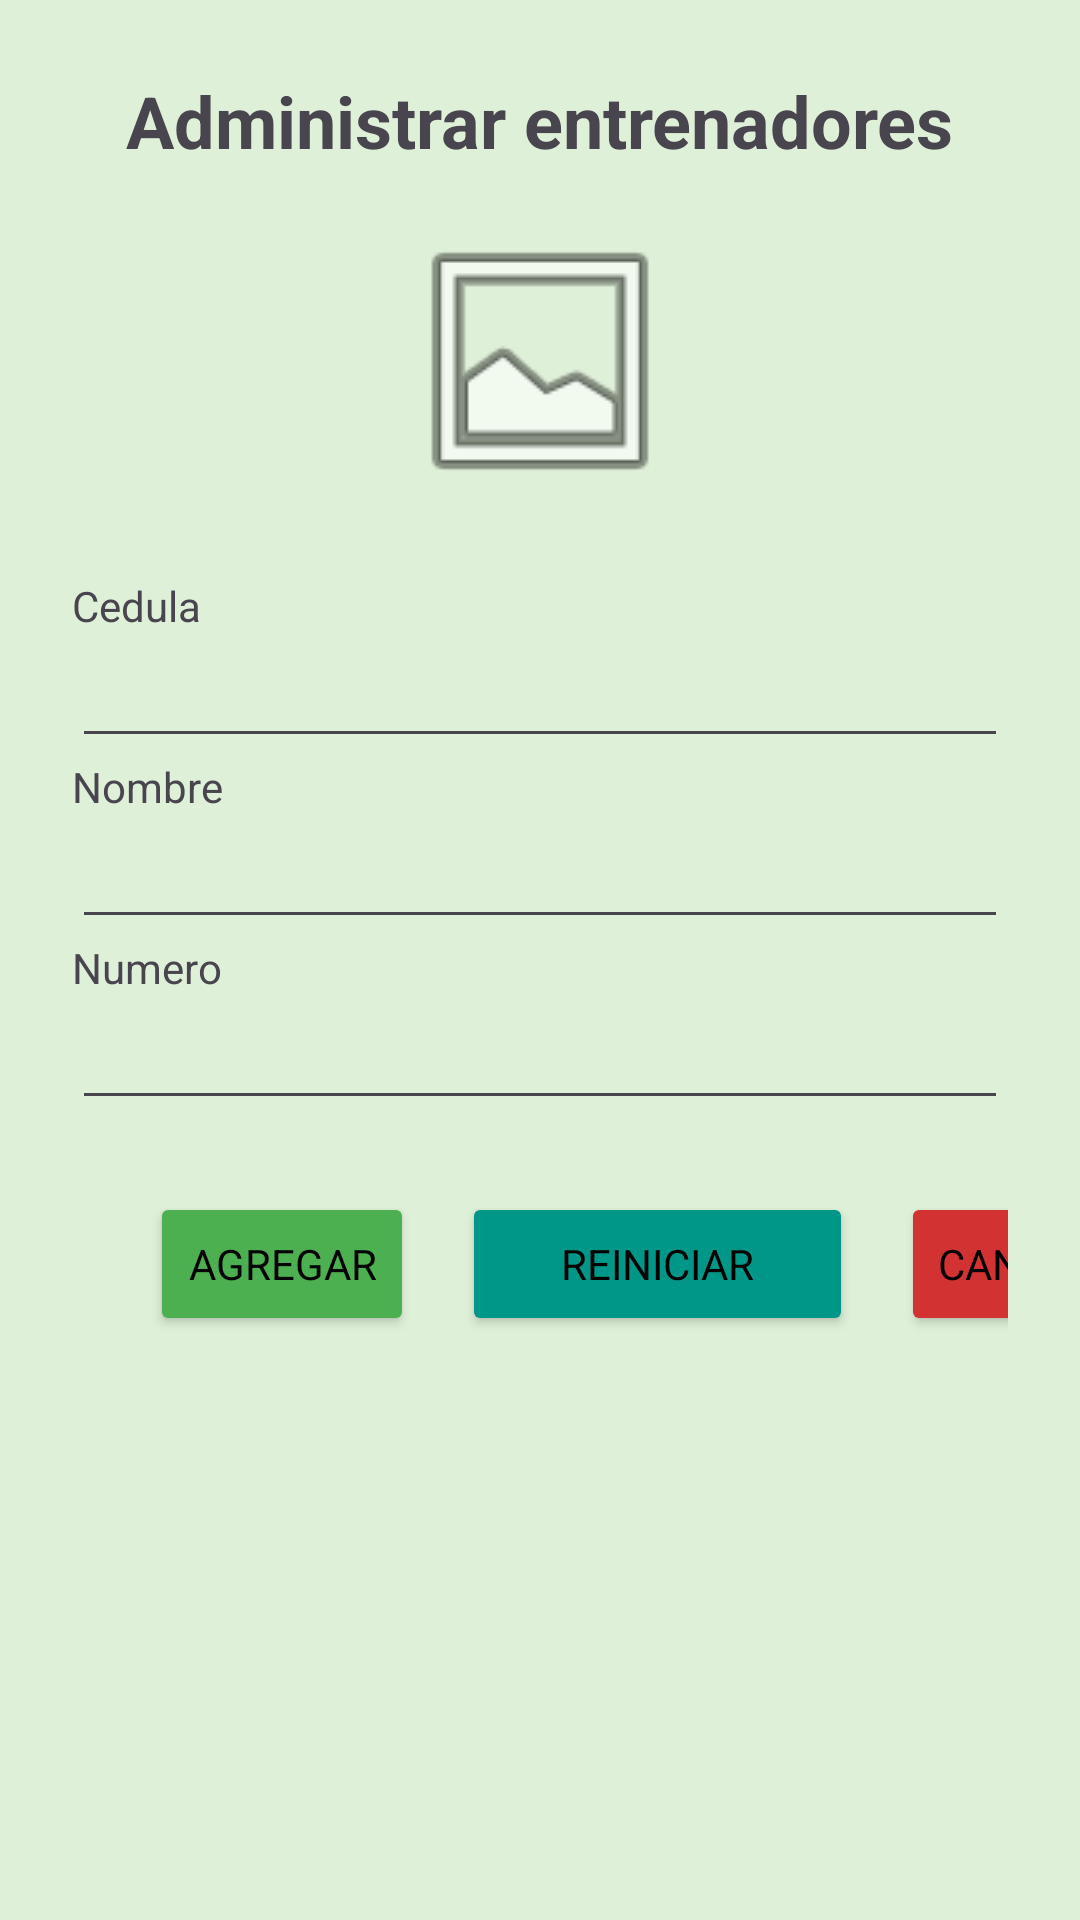

Screen size 1080 x 1920. Icon name, then its center in pixels as (x,y):
gallery: (540,361)
